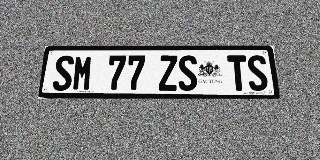7: (106, 55, 126, 91), (126, 55, 145, 91)
M: (72, 55, 93, 91)
S: (246, 55, 269, 91), (52, 55, 74, 91), (178, 55, 198, 91)
T: (227, 55, 249, 91)
Z: (159, 55, 178, 91)
